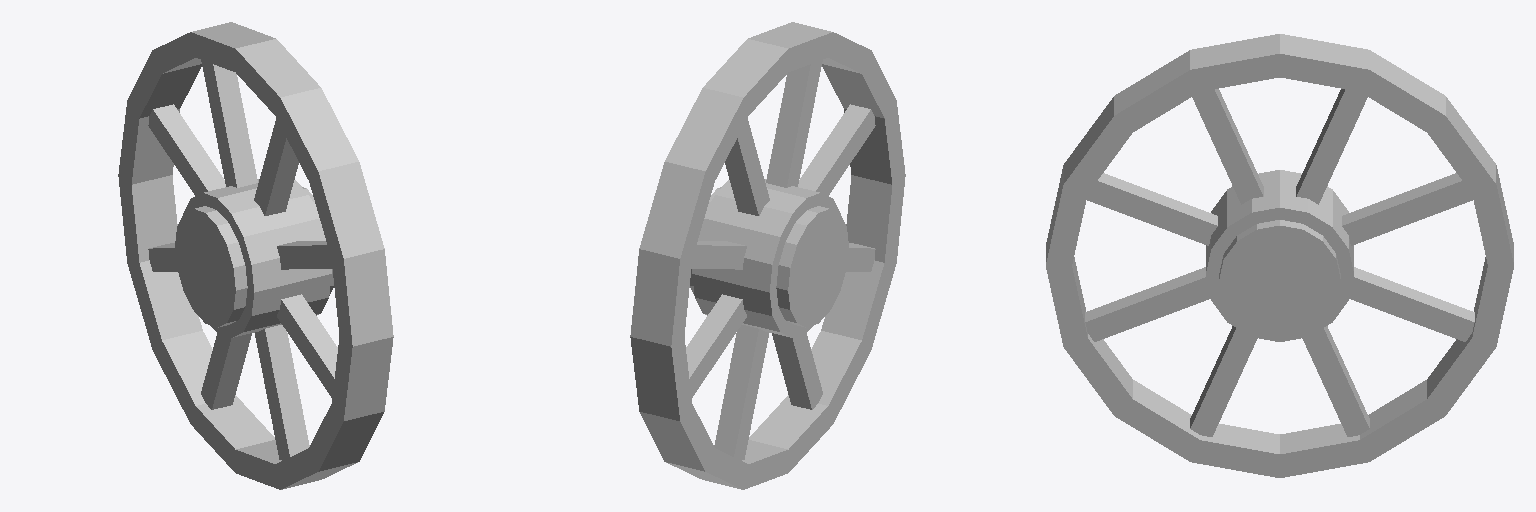
The model's file is wagon_wheel_001.obj.
3 renders of one model, left to right at view 1: azimuth 30°, elevation 25°; view 2: azimuth 150°, elevation 25°; view 3: azimuth 270°, elevation 25°, orthographic.
Parts seen in each view (by area): view 1: wagon_wheel_001_Circle; view 2: wagon_wheel_001_Circle; view 3: wagon_wheel_001_Circle.
Part boxes in pixels (x1,y1,x2,y2): wagon_wheel_001_Circle: (118, 22, 393, 489); wagon_wheel_001_Circle: (630, 22, 905, 489); wagon_wheel_001_Circle: (1046, 34, 1513, 477).
Bounding box in the file's own units: 0.3394 × 1.36 × 1.36.